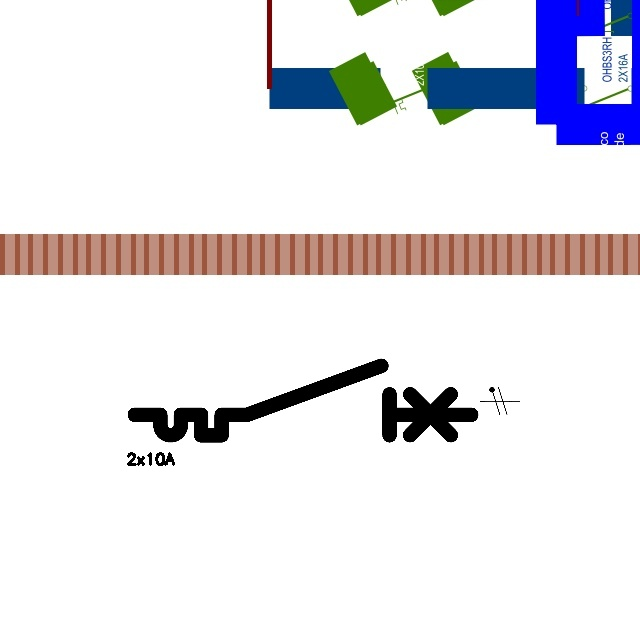interruptor_termomagnetico: (126, 357, 480, 444)
